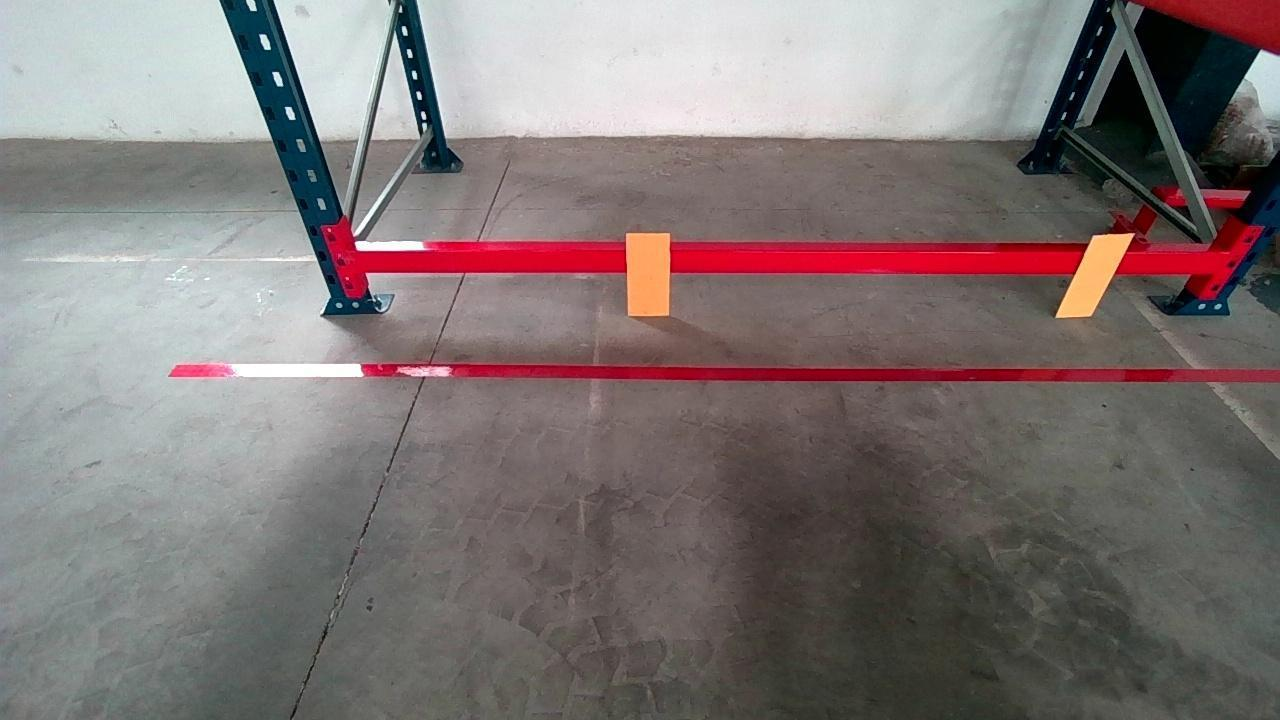h_rack: (356, 252, 1222, 274)
orange_strip: (1056, 234, 1134, 314), (627, 231, 672, 315)
red_line: (164, 362, 1280, 377)
